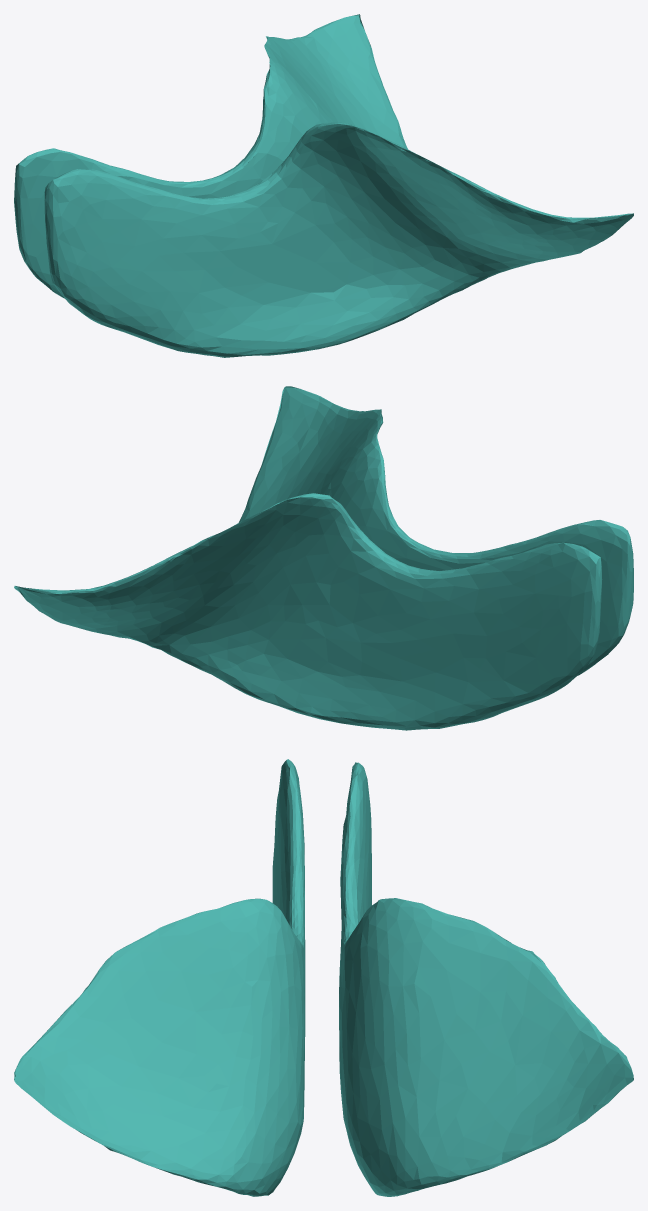
The picture shows the model from 3 angles, top to bottom: view 1: azimuth 30°, elevation 25°; view 2: azimuth 150°, elevation 25°; view 3: azimuth 270°, elevation 25°; orthographic projection. The views are drawn at different scales.
Visible parts, largest first — view 1: 430.obj; view 2: 430.obj; view 3: 430.obj.
Boxes of the visible parts, box(x1,y1,x2,y2) form: 430.obj: box(14, 14, 633, 357); 430.obj: box(14, 386, 633, 730); 430.obj: box(14, 759, 633, 1196).
Size of the model in its own units: 3221 by 1532 by 3250.
